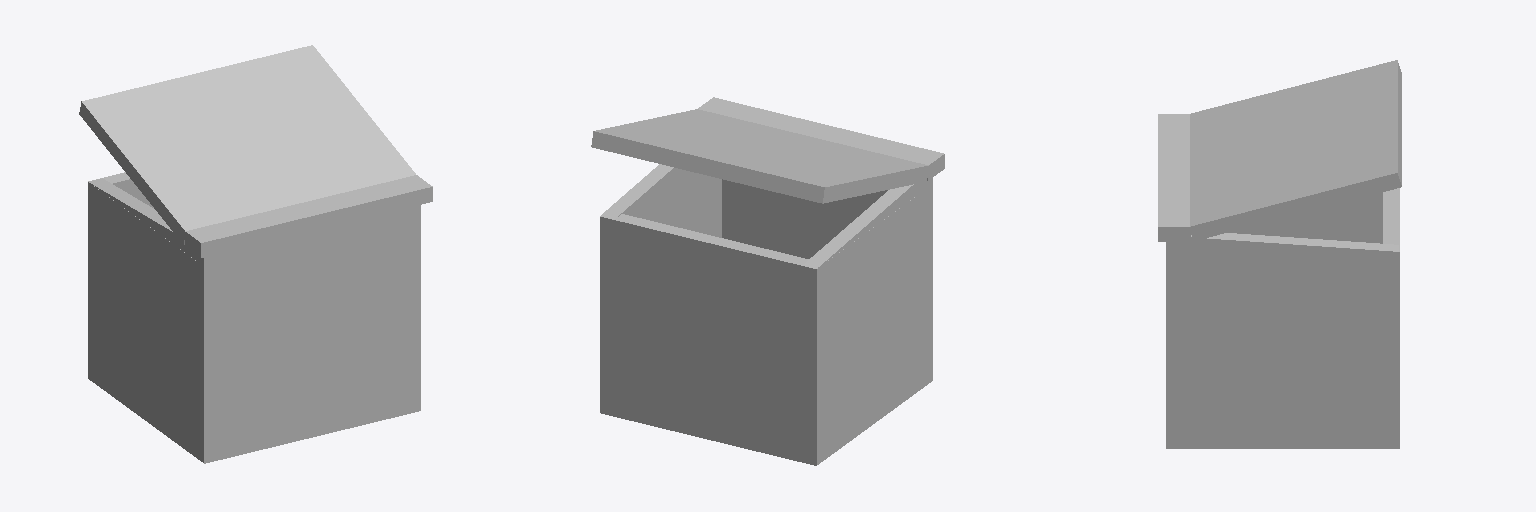
Rendered from compost_stone_rind.obj.
3 renders of one model, left to right at view 1: azimuth 30°, elevation 25°; view 2: azimuth 150°, elevation 25°; view 3: azimuth 270°, elevation 25°, orthographic.
Parts seen in each view (by area): view 1: rightSide; view 2: rightSide; view 3: rightSide.
Boxes of the visible parts, box(x1,y1,x2,y2) form: rightSide: box(79, 45, 432, 463); rightSide: box(591, 97, 944, 465); rightSide: box(1158, 60, 1401, 448).
Size of the model in its own units: 1 by 1.15 by 0.9146.